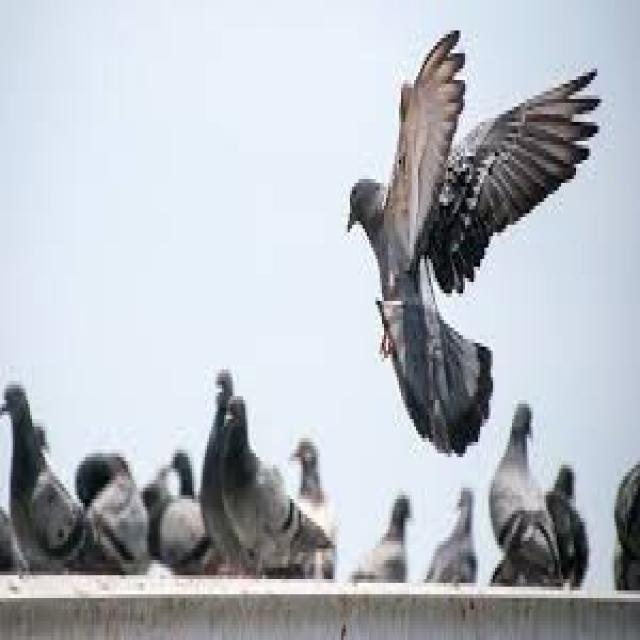pigeon: (333, 21, 605, 466)
